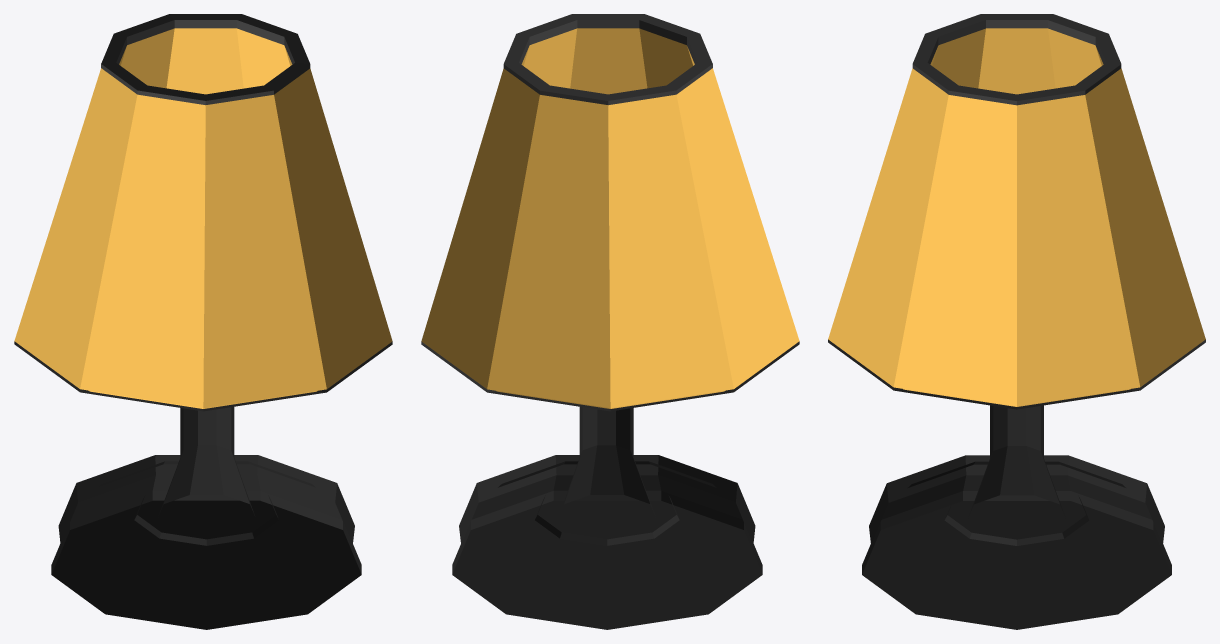
The model's file is Desk Lamp 2.fbx.
The picture shows the model from 3 angles, left to right: view 1: azimuth 30°, elevation 25°; view 2: azimuth 150°, elevation 25°; view 3: azimuth 270°, elevation 25°; orthographic projection.
Visible parts, largest first — view 1: Node 0; view 2: Node 0; view 3: Node 0.
Boxes of the visible parts, <box> form: Node 0: <box>14,14,392,629</box>; Node 0: <box>421,14,799,629</box>; Node 0: <box>828,14,1205,629</box>.
Size of the model in its own units: 0.2998 by 0.4438 by 0.2953.
